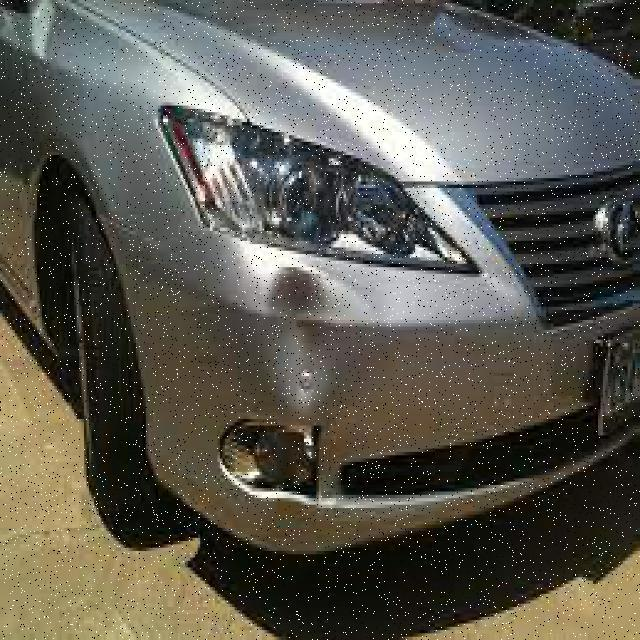hood: (94, 241, 596, 541)
